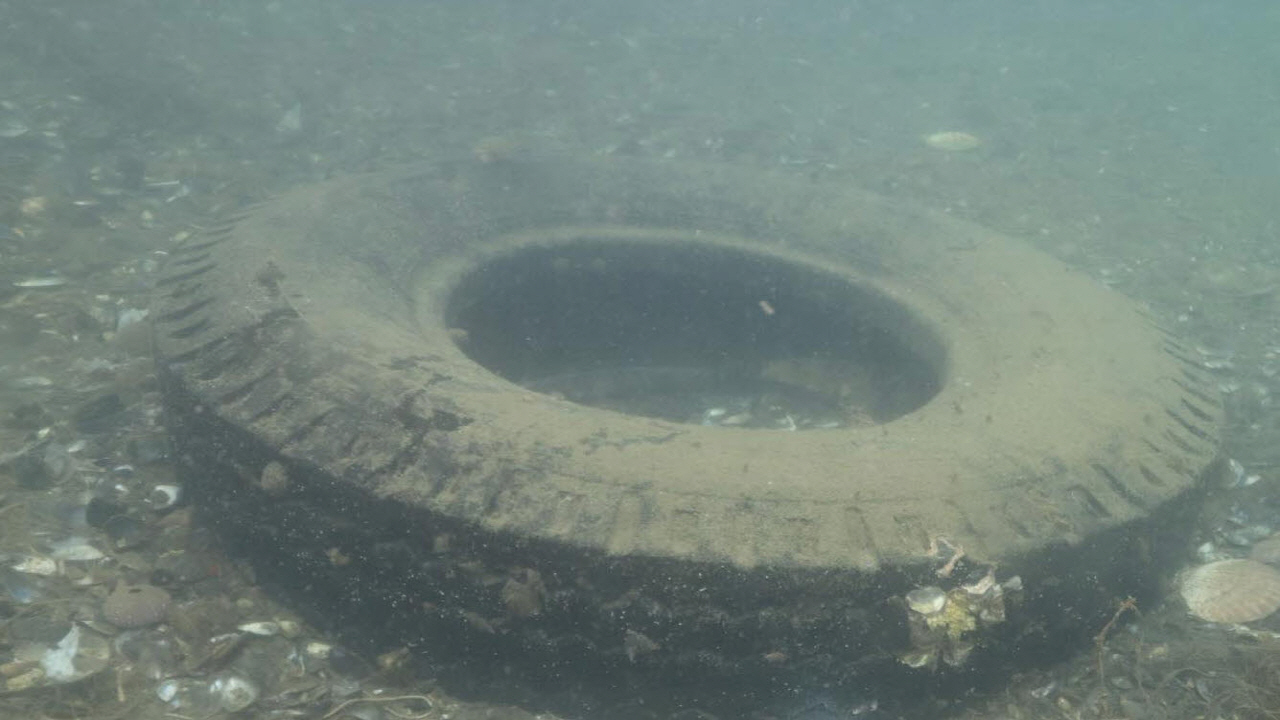tire: (147, 153, 1223, 720)
